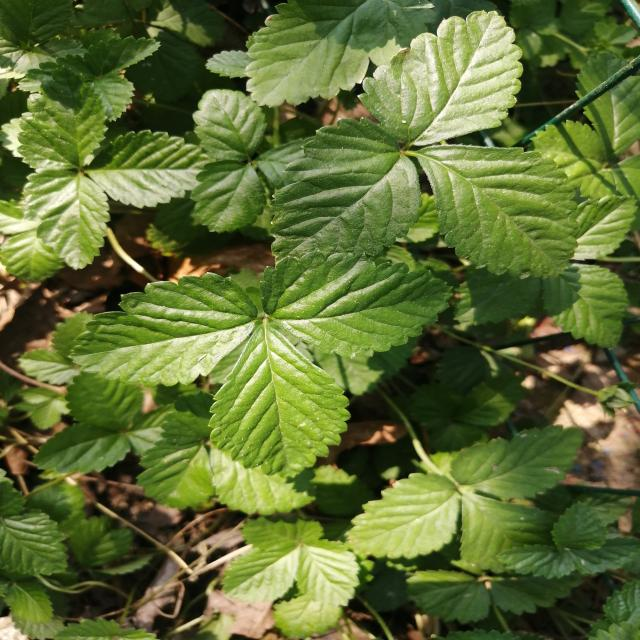Mock_strawberry: (228, 26, 598, 304), (59, 255, 482, 470)
